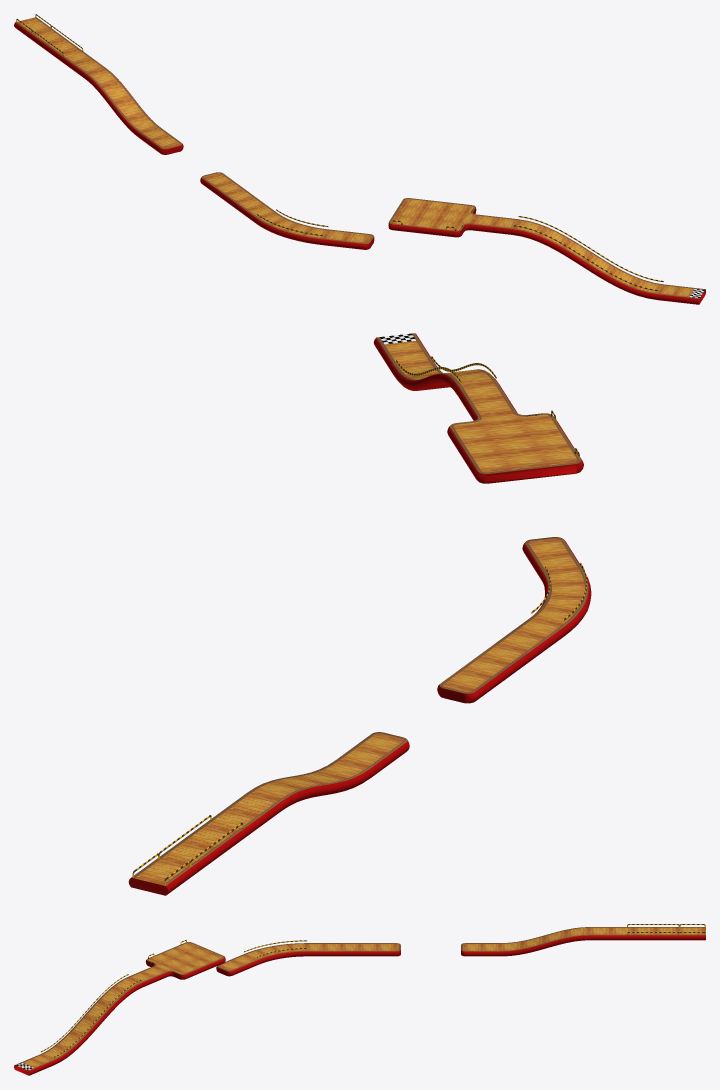
File: map21.fbx
3 views of the same model, one above another, from view 1: azimuth 30°, elevation 25°; view 2: azimuth 150°, elevation 25°; view 3: azimuth 270°, elevation 25° (orthographic). The views are drawn at different scales.
Visible parts, largest first — view 1: Terrain_CurveDown_Bar_2, Terrain_Flat_Wide_2, Terrain_CurveDown_Bar_1, Terrain_Flat_BarStart_3, Terrain_Left_Flat_Bar_3, Terrain_Flat_2, Terrain_Flat_3__1_, Terrain_Flat_3_2, Terrain_Flat_3, Terrain_Flat_3_1, Terrain_Flat_4; view 2: Terrain_Flat_Wide_2, Terrain_Flat_BarStart_3, Terrain_CurveDown_Bar_1, Terrain_Left_Flat_Bar_3, Terrain_Flat_2, Terrain_CurveDown_Bar_2, Terrain_Flat_3, Terrain_Flat_3_1, Dummy_Start_1, TerrainEdge_Wide_2, Terrain_Flat_3_2, Terrain_Flat_3__1_ (+1 smaller); view 3: Terrain_CurveDown_Bar_2, Terrain_Flat_Wide_2, Terrain_CurveDown_Bar_1, Terrain_Flat_BarStart_3, Terrain_Left_Flat_Bar_3, Terrain_Flat_2, Terrain_Flat_3, Terrain_Flat_3_1, Terrain_Flat_3__1_, Terrain_Flat_3_2, Dummy_Start_1, Terrain_Flat_4 (+1 smaller).
Part boxes in pixels (x1=…): Terrain_CurveDown_Bar_2: x1=512, y1=219, x2=663, y2=299; Terrain_Flat_Wide_2: x1=392, y1=198, x2=471, y2=237; Terrain_CurveDown_Bar_1: x1=84, y1=68, x2=159, y2=137; Terrain_Flat_BarStart_3: x1=30, y1=29, x2=105, y2=78; Terrain_Left_Flat_Bar_3: x1=254, y1=213, x2=328, y2=244; Terrain_Flat_2: x1=201, y1=173, x2=254, y2=206; Terrain_Flat_3__1_: x1=321, y1=229, x2=369, y2=249; Terrain_Flat_3_2: x1=470, y1=214, x2=518, y2=234; Terrain_Flat_3: x1=137, y1=127, x2=181, y2=152; Terrain_Flat_3_1: x1=233, y1=197, x2=276, y2=222; Terrain_Flat_4: x1=657, y1=284, x2=694, y2=303; Terrain_Flat_Wide_2: x1=447, y1=416, x2=582, y2=478; Terrain_Flat_BarStart_3: x1=160, y1=793, x2=283, y2=875; Terrain_CurveDown_Bar_1: x1=247, y1=760, x2=372, y2=810; Terrain_Left_Flat_Bar_3: x1=530, y1=569, x2=591, y2=635; Terrain_Flat_2: x1=441, y1=644, x2=530, y2=699; Terrain_CurveDown_Bar_2: x1=392, y1=362, x2=499, y2=394; Terrain_Flat_3: x1=336, y1=734, x2=408, y2=777; Terrain_Flat_3_1: x1=494, y1=618, x2=566, y2=660; Dummy_Start_1: x1=128, y1=858, x2=194, y2=895; TerrainEdge_Wide_2: x1=475, y1=459, x2=583, y2=483; Terrain_Flat_3_2: x1=456, y1=383, x2=517, y2=420; Terrain_Flat_3__1_: x1=522, y1=539, x2=582, y2=580; Terrain_CurveDown_Bar_2: x1=40, y1=976, x2=143, y2=1064; Terrain_Flat_Wide_2: x1=149, y1=942, x2=224, y2=978; Terrain_CurveDown_Bar_1: x1=501, y1=927, x2=590, y2=956; Terrain_Flat_BarStart_3: x1=590, y1=927, x2=679, y2=940; Terrain_Left_Flat_Bar_3: x1=244, y1=943, x2=307, y2=964; Terrain_Flat_2: x1=343, y1=943, x2=396, y2=956; Terrain_Flat_3: x1=465, y1=943, x2=500, y2=956; Terrain_Flat_3_1: x1=307, y1=943, x2=342, y2=956; Terrain_Flat_3__1_: x1=219, y1=954, x2=258, y2=975; Terrain_Flat_3_2: x1=129, y1=966, x2=168, y2=986; Dummy_Start_1: x1=679, y1=927, x2=705, y2=940; Terrain_Flat_4: x1=21, y1=1054, x2=55, y2=1072.
Size of the model in its own units: 6097 by 1200 by 15536.
7 materials, 5 textured.
